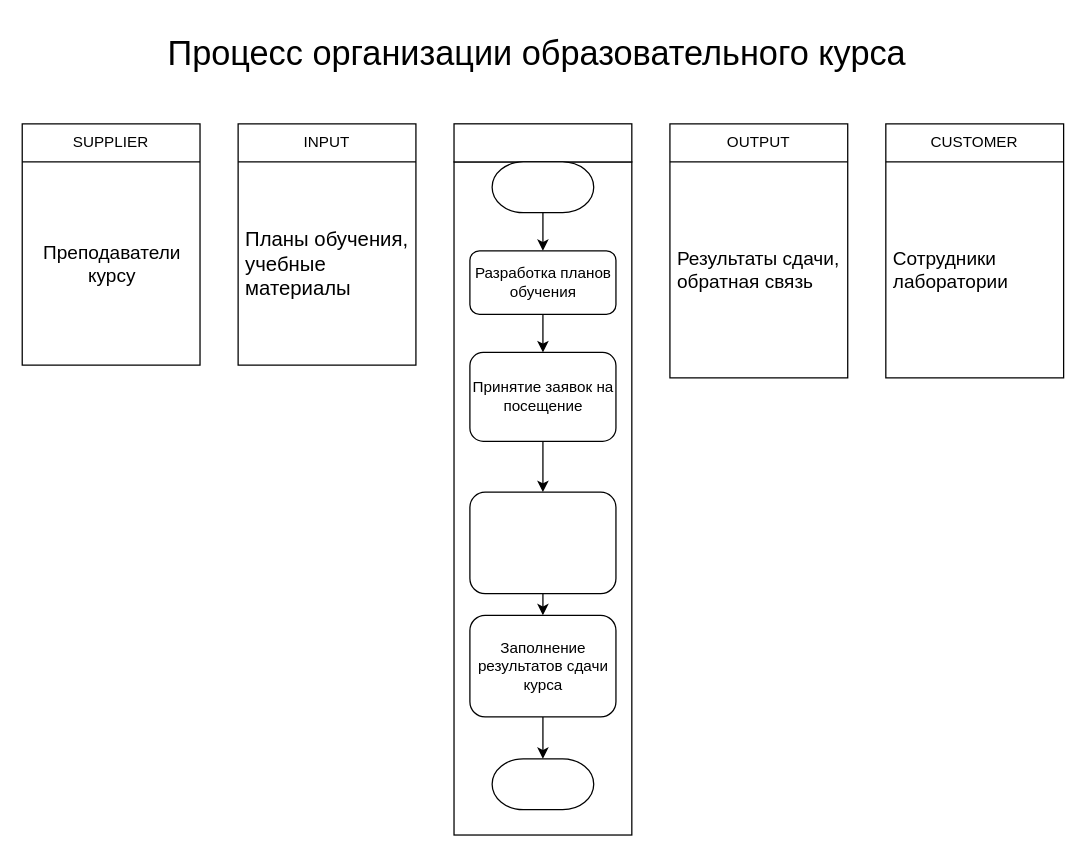
Image size: 1086x857. Some labels were removed from this diagram. The shapes that lost their labels are listed below. From the top down, each one's centre as x and y in pixels, then its label:
At (x=542, y=142): "PROCESS".
At (x=542, y=187): "Начало".
At (x=542, y=542): "Проведение занятий, информационное сопровождение курса".
At (x=542, y=784): "Конец".
